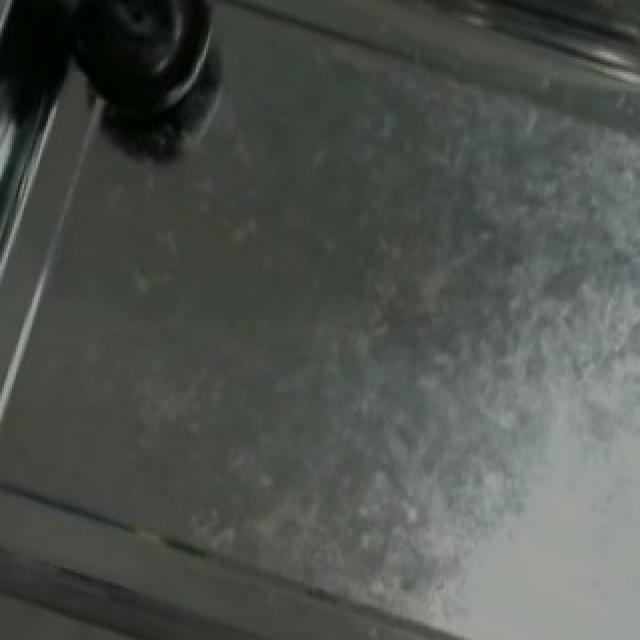Fruit: (50, 0, 234, 139)
